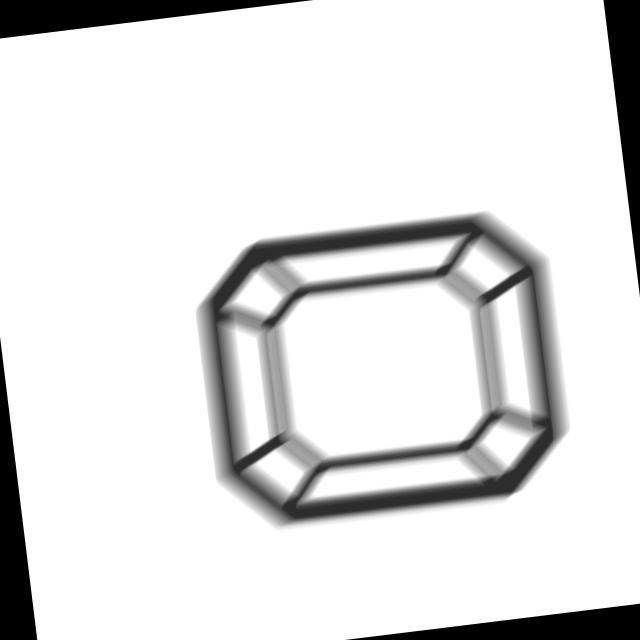emerald: (182, 196, 586, 544)
